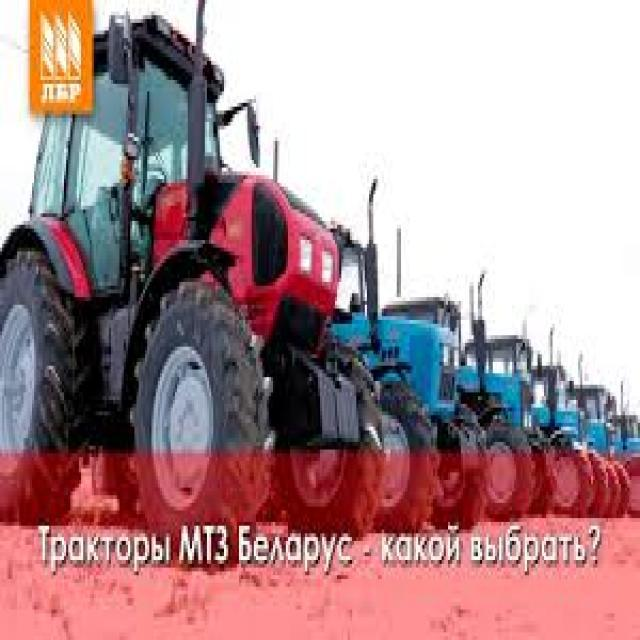Tratores - v5 YOLO V8L 2024-11-13: (0, 4, 380, 560), (328, 224, 460, 530), (464, 334, 592, 514), (530, 360, 620, 518), (568, 382, 640, 519)
